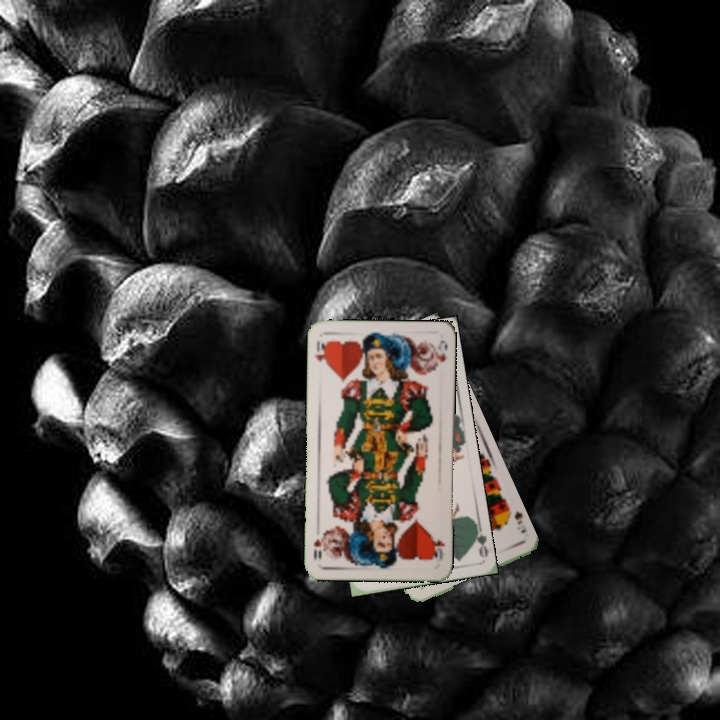GO: (469, 518, 490, 559)
HO: (310, 337, 330, 369), (428, 532, 447, 562)
S9: (500, 503, 529, 536)
